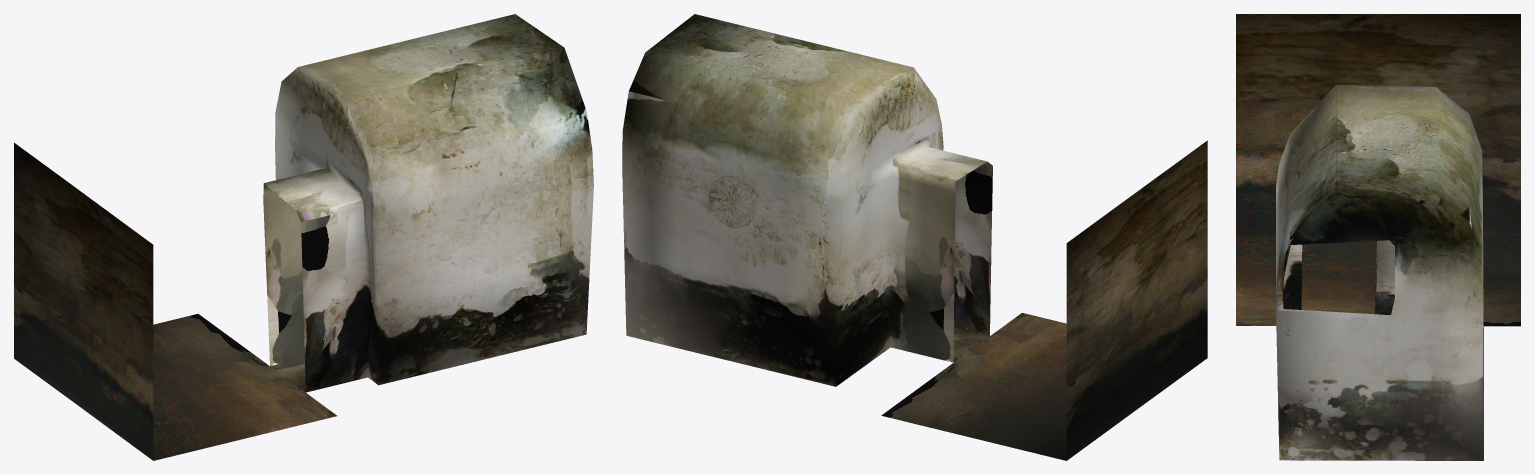
3 renders of one model, left to right at view 1: azimuth 30°, elevation 25°; view 2: azimuth 150°, elevation 25°; view 3: azimuth 270°, elevation 25°, orthographic.
Visible parts, largest first — view 1: low, low.001; view 2: low, low.001; view 3: low, low.001.
Part boxes in pixels (x1,y1,x2,y2): low: (263, 14, 593, 392); low.001: (14, 143, 336, 460); low: (622, 14, 992, 386); low.001: (881, 140, 1207, 460); low: (1276, 84, 1483, 460); low.001: (1236, 14, 1520, 326).
Size of the model in its own units: 4.09 by 2.25 by 2.15.
1 material, 1 textured.
